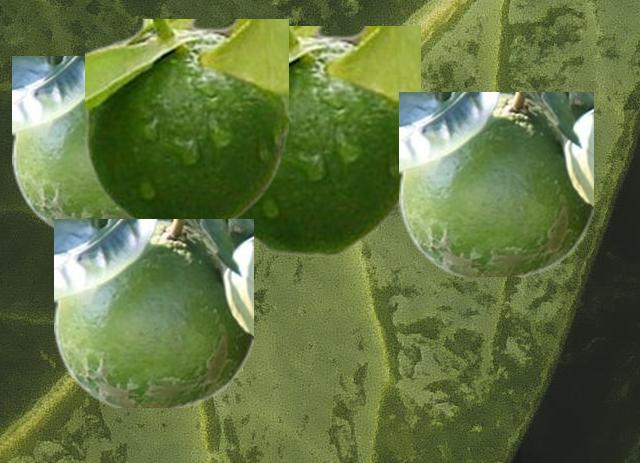dalandan: (239, 26, 419, 255), (85, 19, 287, 218), (54, 219, 252, 406), (399, 92, 592, 275), (12, 56, 127, 231)
